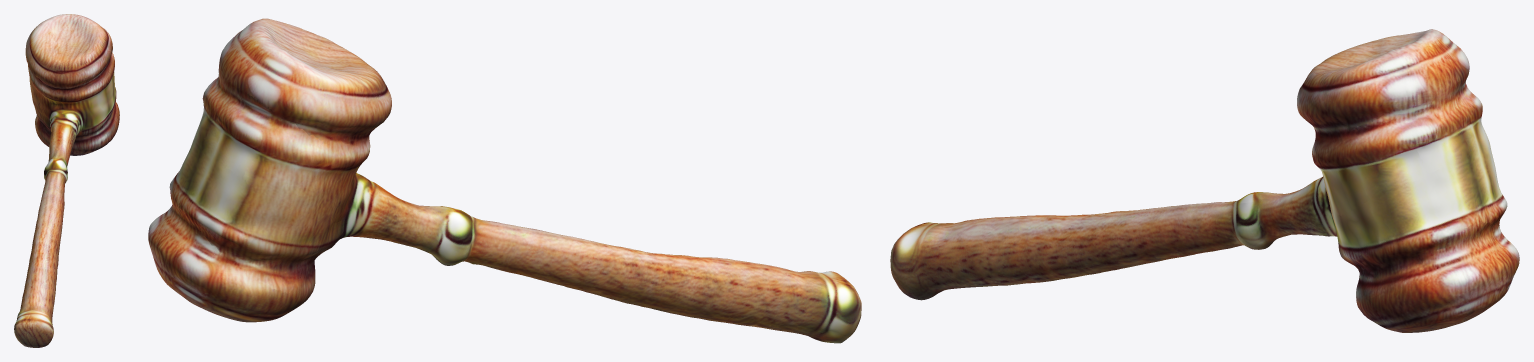
Rendered from martillo_de_juez (1).glb.
3 renders of one model, left to right at view 1: azimuth 30°, elevation 25°; view 2: azimuth 150°, elevation 25°; view 3: azimuth 270°, elevation 25°, orthographic. The views are drawn at different scales.
Visible parts, largest first — view 1: Object_4; view 2: Object_4; view 3: Object_4.
Part boxes in pixels (x1,y1,x2,y2): Object_4: (14, 14, 119, 347); Object_4: (148, 18, 861, 343); Object_4: (890, 29, 1519, 332).
Bounding box in the file's own units: 0.6752 × 0.5794 × 0.8122.
Materials: 1 (1 with a texture image).
